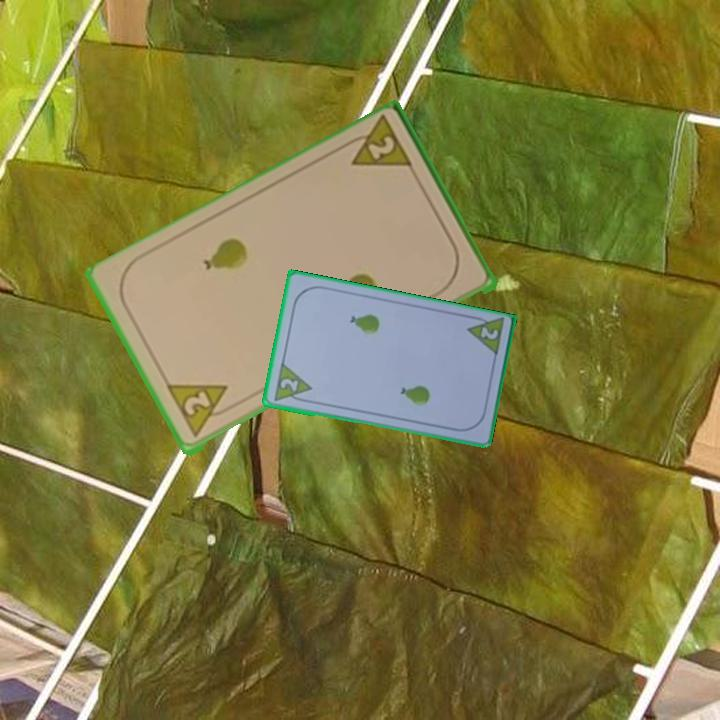2p: (338, 114, 417, 175), (164, 380, 239, 443), (270, 360, 314, 406), (477, 323, 501, 343)
